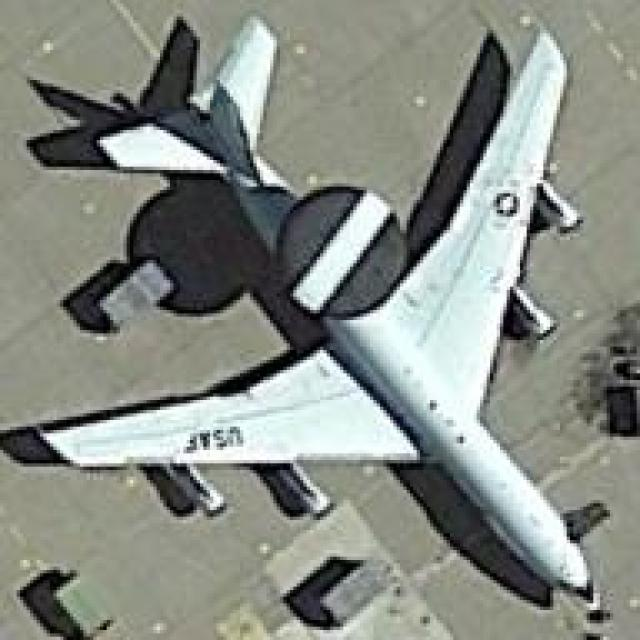E-3_TopDown: (0, 7, 610, 610)
